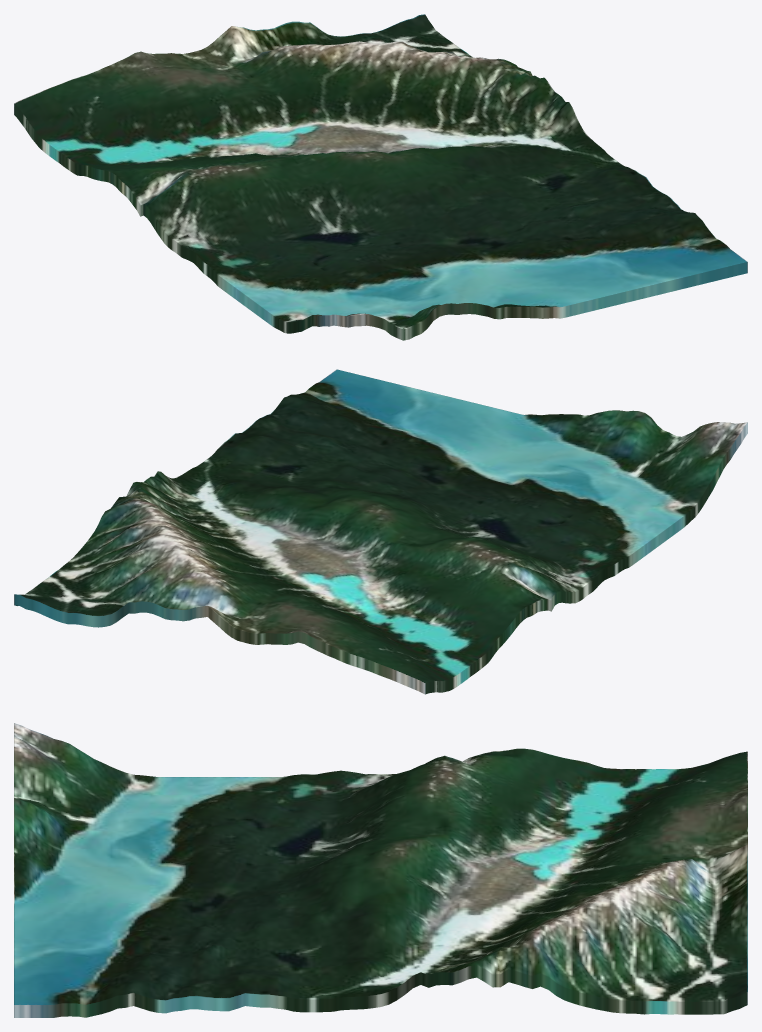
3 views of the same model, one above another, from view 1: azimuth 30°, elevation 25°; view 2: azimuth 150°, elevation 25°; view 3: azimuth 270°, elevation 25° (orthographic). The views are drawn at different scales.
Parts seen in each view (by area): view 1: tile; view 2: tile; view 3: tile.
Boxes of the visible parts, <box> form: tile: <box>14,14,747,340</box>; tile: <box>14,369,747,694</box>; tile: <box>14,723,747,1017</box>.
Size of the model in its own units: 8100 by 1130 by 11010.
Materials: 1 (1 with a texture image).
